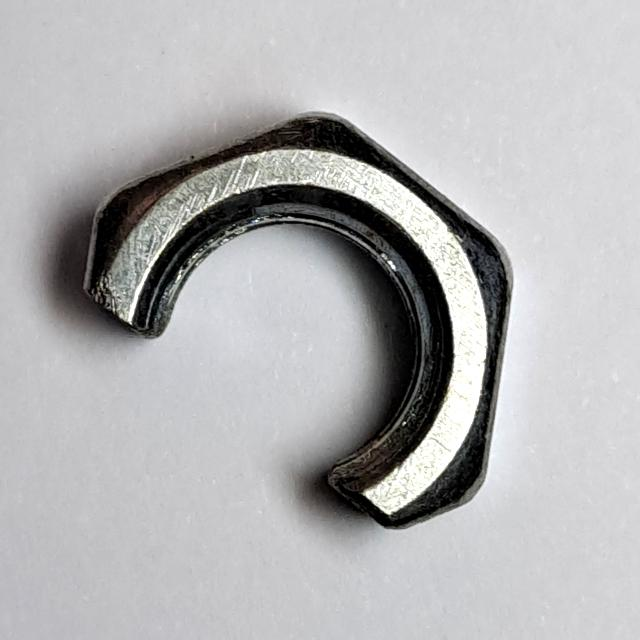Fracture: (70, 98, 522, 542)
